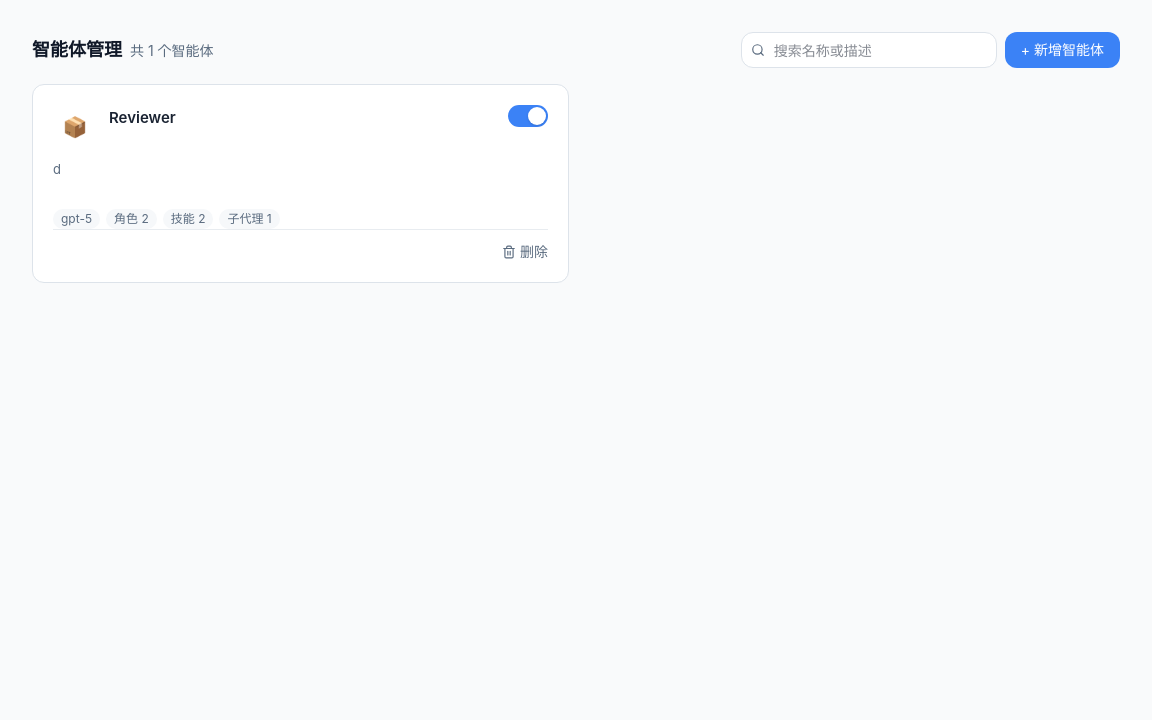
Test: AgentManagePage › the card is clickable and opens the drawer
Step 1. Click the text "Reviewer" → x=300, y=183, box [32,84,569,283]
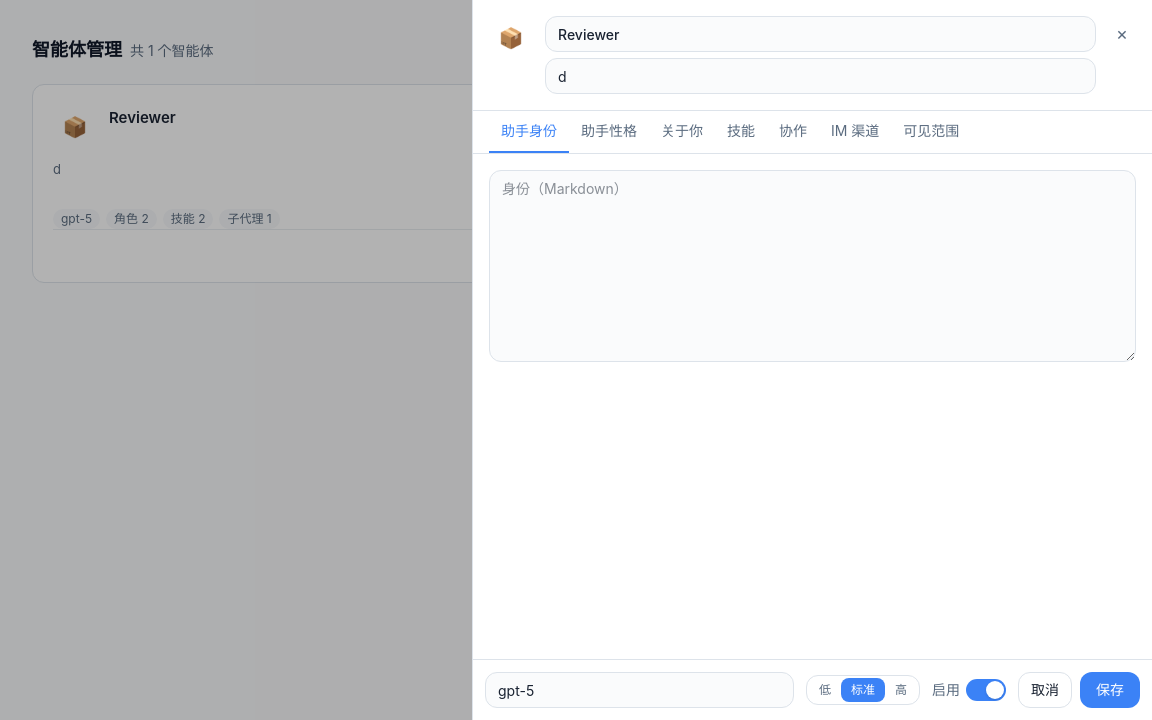
Check: the tab "助手身份" is shown, box [489,111,569,153]
